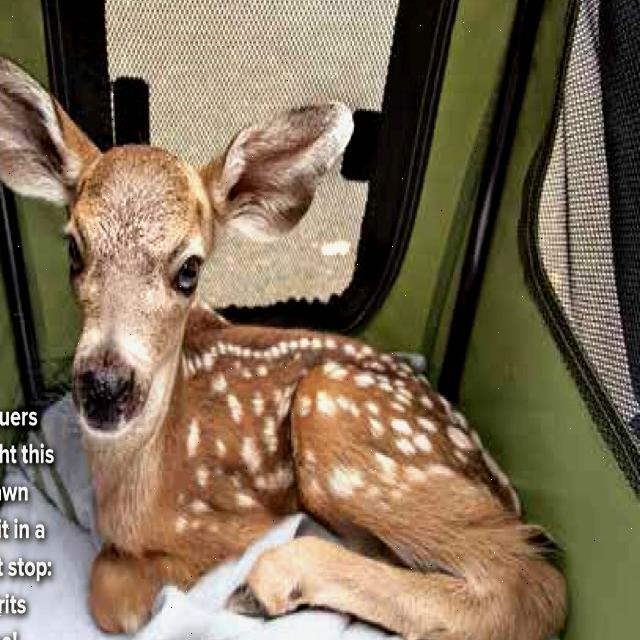deer: (9, 64, 370, 453)
